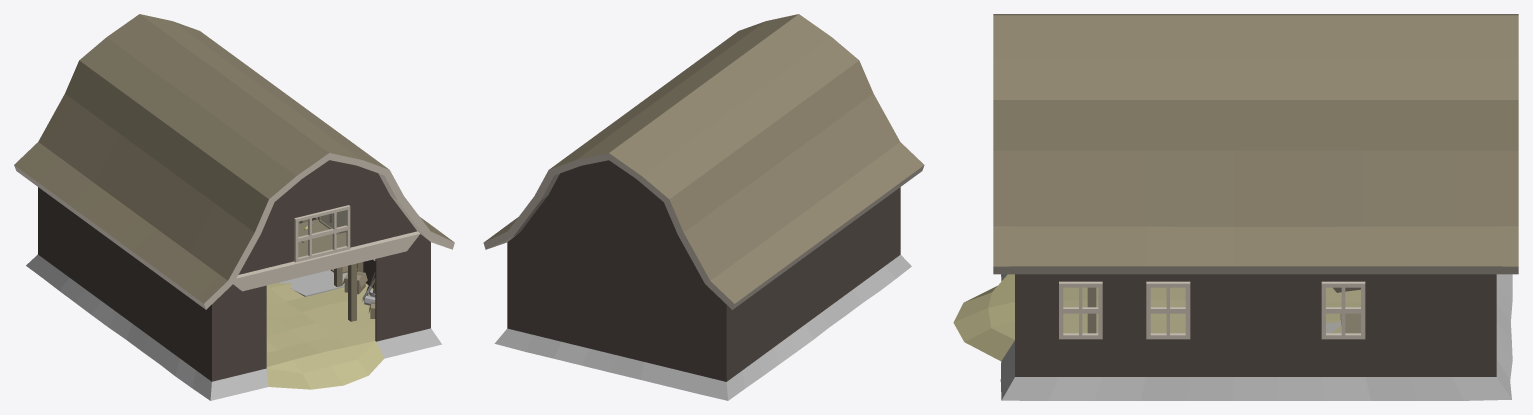
The model's file is Barn 1.fbx.
3 renders of one model, left to right at view 1: azimuth 30°, elevation 25°; view 2: azimuth 150°, elevation 25°; view 3: azimuth 270°, elevation 25°, orthographic. The views are drawn at different scales.
Visible parts, largest first — view 1: Barn3; view 2: Barn3; view 3: Barn3.
Part boxes in pixels (x1,y1,x2,y2): Barn3: (14, 14, 454, 400); Barn3: (483, 14, 924, 400); Barn3: (953, 14, 1518, 400).
Size of the model in its own units: 18.33 by 15.5 by 25.82.
